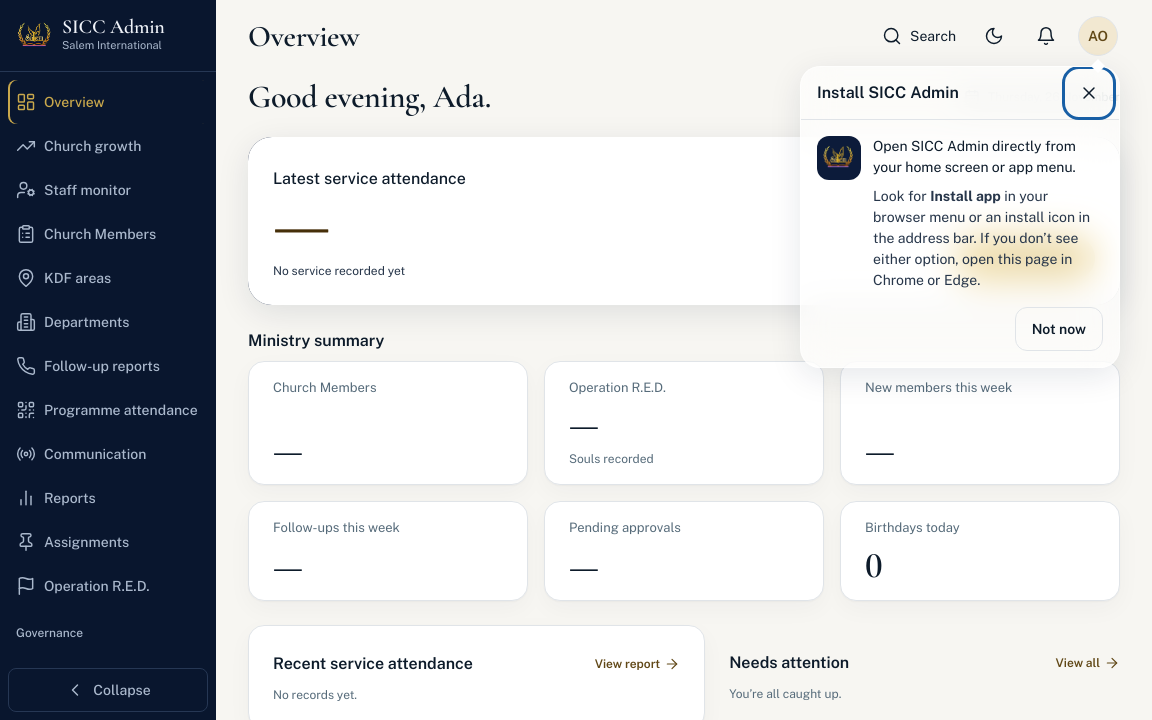
Test: today’s birthdays › opens the matching names-only list from the bishop birthday card with []
Expected: the text "0" is shown, 865,544 -> 882,587
Click the link "Birthdays today 0": (912,527) 840,501 -> 1120,601
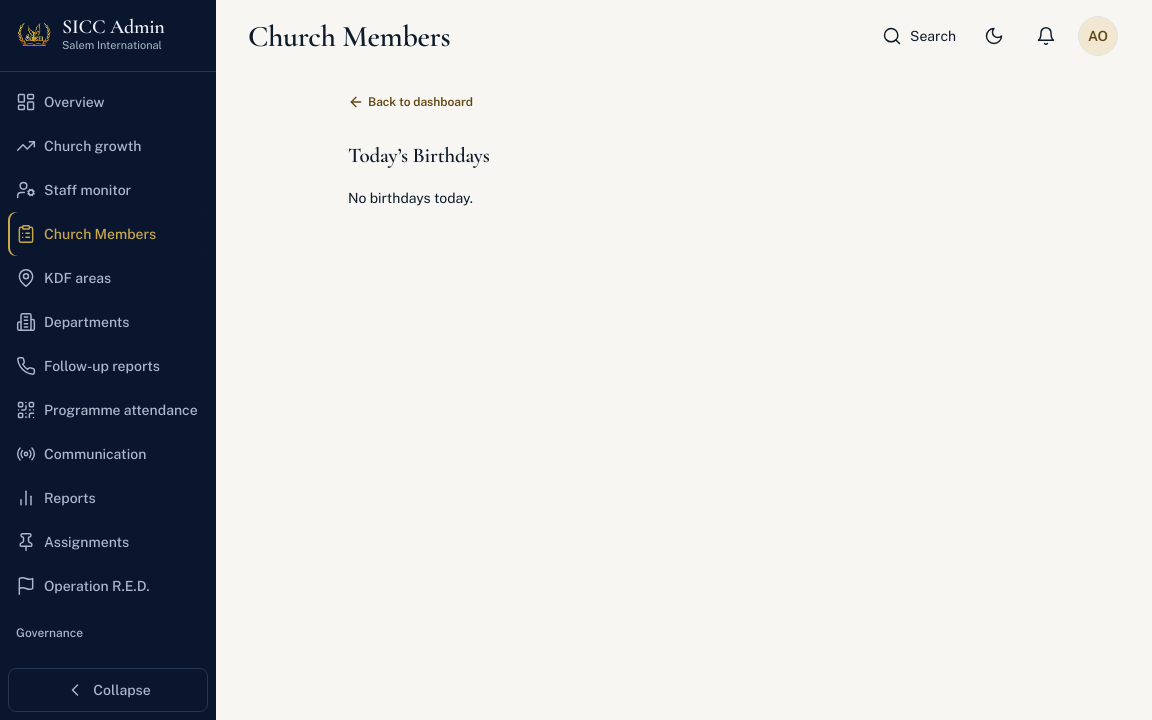
Expected: the heading "Today’s Birthdays" is shown, 348,143 -> 490,168
Expected: the text "No birthdays today." is shown, 348,190 -> 473,206
